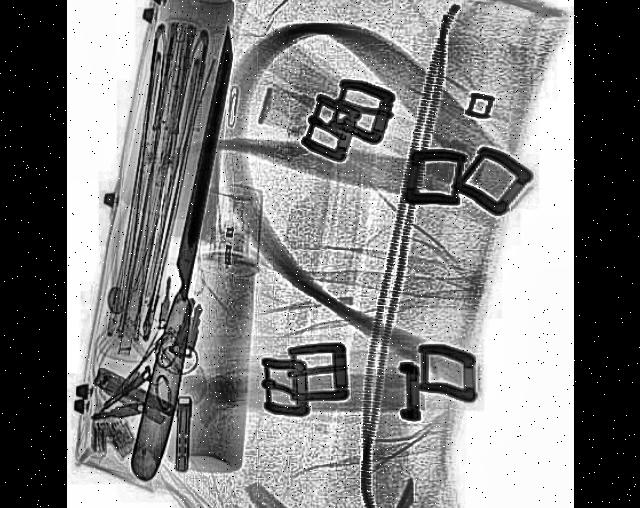Knife: (130, 20, 252, 484)
